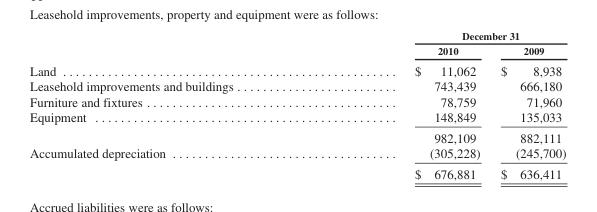table: (28, 28, 565, 180)
table column: (28, 28, 323, 180), (323, 28, 489, 180), (489, 28, 565, 180)
table column header: (28, 28, 565, 59)
table row: (28, 59, 565, 78), (28, 109, 565, 127), (28, 127, 565, 145), (28, 145, 565, 163), (28, 42, 565, 59), (28, 163, 565, 180), (28, 93, 565, 109), (28, 78, 565, 93), (28, 28, 565, 42)
table spanning cell: (323, 28, 565, 42)
